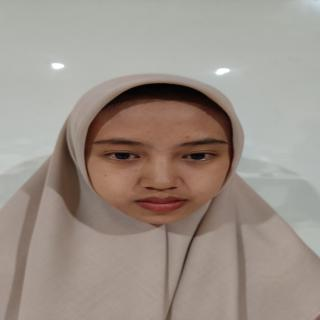Netral: (80, 80, 247, 229)
